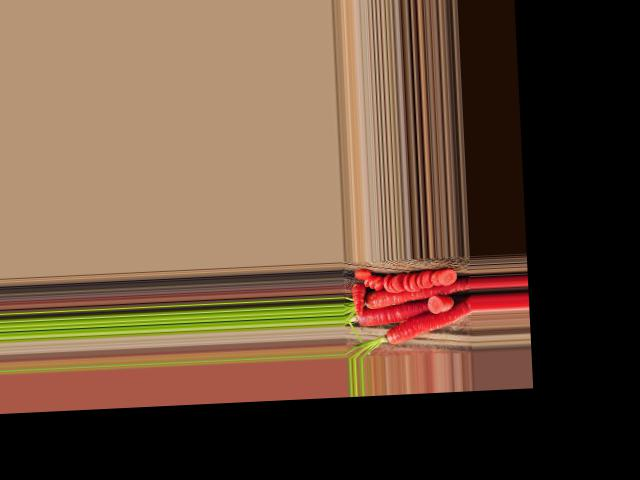carrot: (357, 276, 473, 313)
